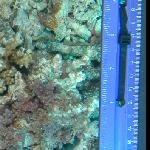alive: (1, 19, 96, 136)
